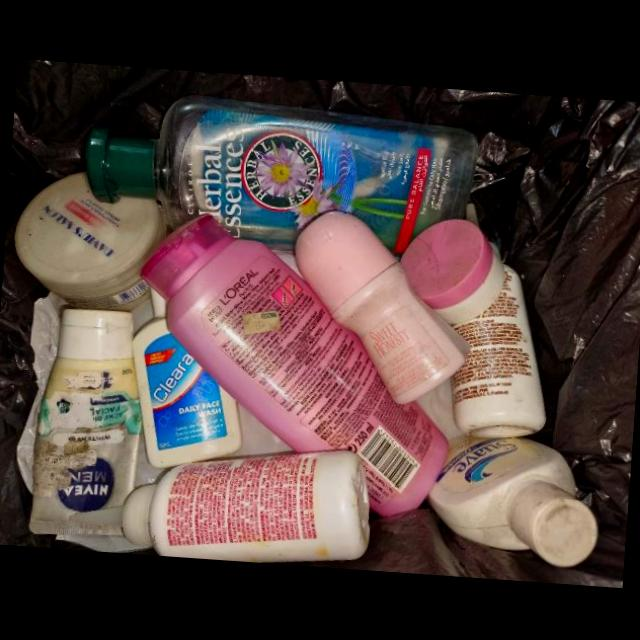chai_nhua: (138, 215, 452, 520), (82, 95, 478, 259), (69, 450, 370, 563), (296, 213, 469, 406), (426, 435, 599, 568), (131, 287, 243, 469), (451, 263, 546, 439)
hop_nhua: (28, 308, 141, 536), (14, 171, 167, 311), (398, 219, 504, 329)
